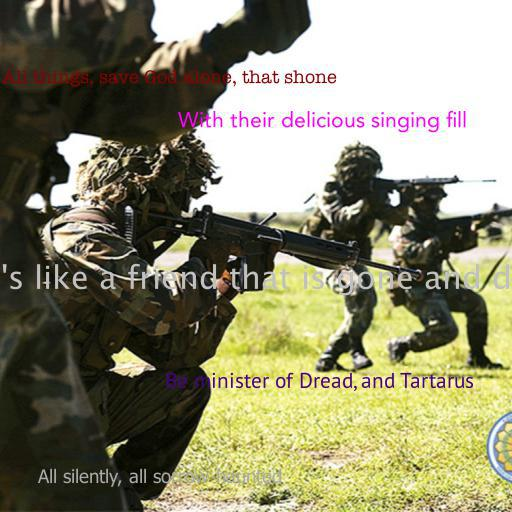American Typewriter: (1, 70, 337, 87)
Avenir: (177, 110, 467, 133)
Lucida Grande: (0, 263, 512, 296)
PT Sans: (164, 372, 474, 392)
Tahoma: (38, 468, 282, 487)
